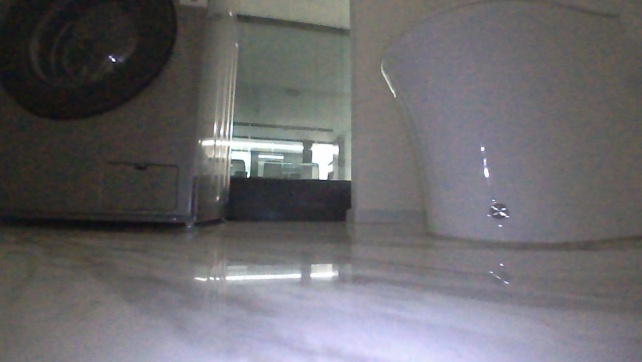toilet: (376, 4, 640, 248)
washing_machine: (5, 0, 230, 228)
